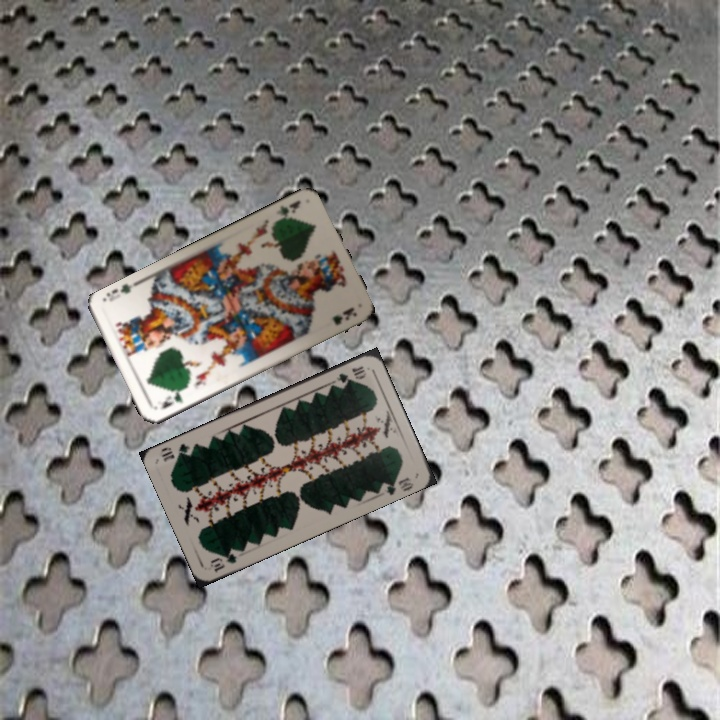G10: (332, 362, 369, 386), (206, 548, 239, 574)
GK: (271, 196, 303, 227), (156, 389, 186, 412)
